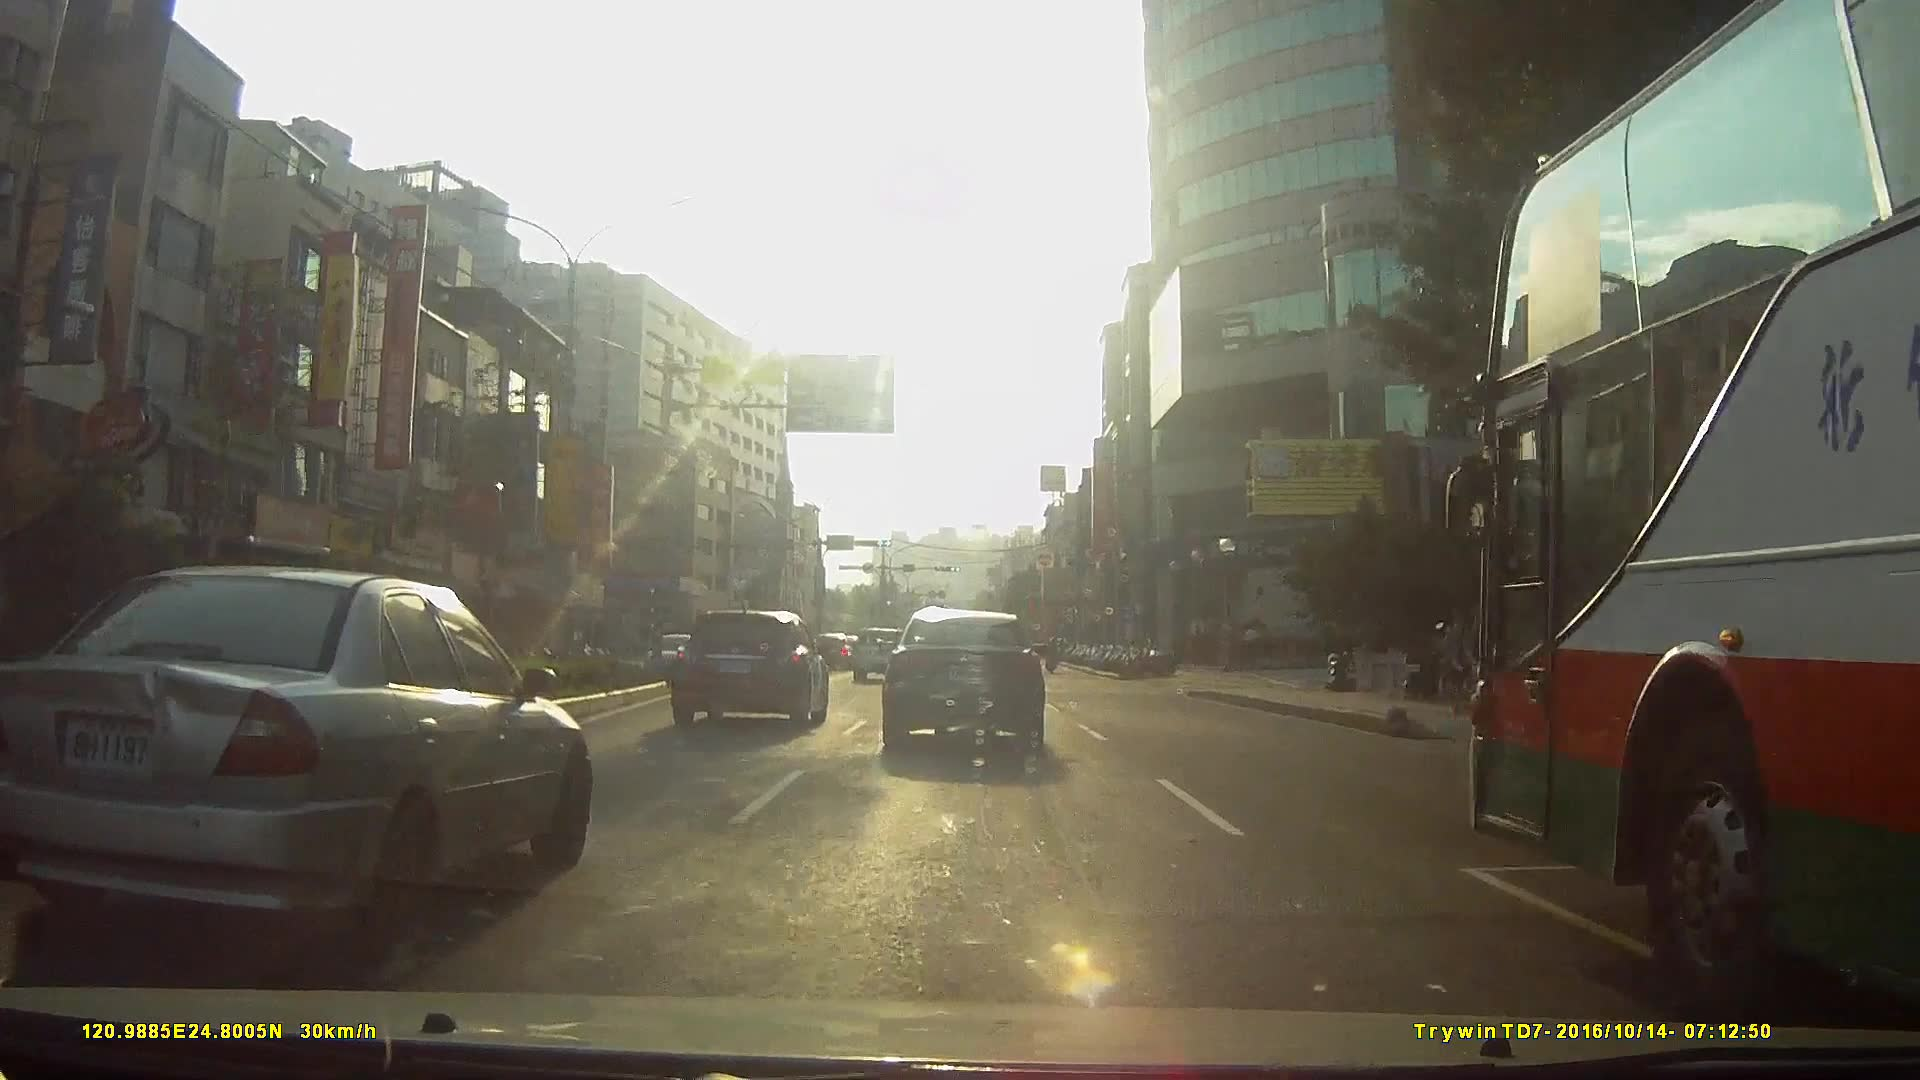vehicle: (1432, 1, 1920, 1048), (0, 564, 592, 963), (876, 608, 1044, 753), (669, 613, 829, 733), (848, 626, 909, 680), (647, 633, 705, 682)
